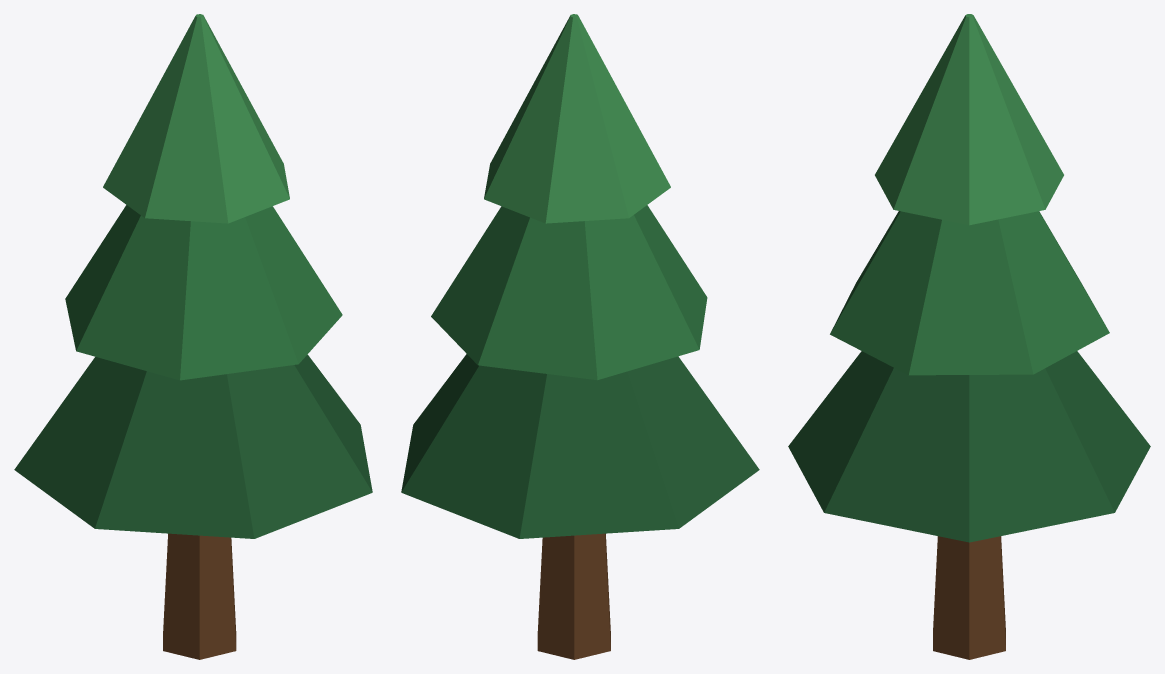
Rendered from pine_tree.glb.
The picture shows the model from 3 angles, left to right: view 1: azimuth 30°, elevation 25°; view 2: azimuth 150°, elevation 25°; view 3: azimuth 270°, elevation 25°; orthographic projection.
Visible parts, largest first — view 1: pine_tree; view 2: pine_tree; view 3: pine_tree.
Part boxes in pixels (x1,y1,x2,y2): pine_tree: (14,14,372,659); pine_tree: (401,14,759,659); pine_tree: (788,14,1150,659).
Bounding box in the file's own units: 1.67 × 3.27 × 1.72.
